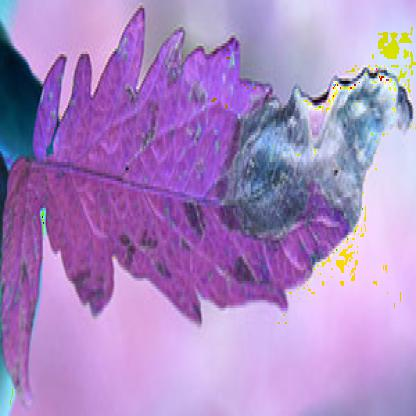Tomato leaf late blight: (8, 8, 413, 335)
